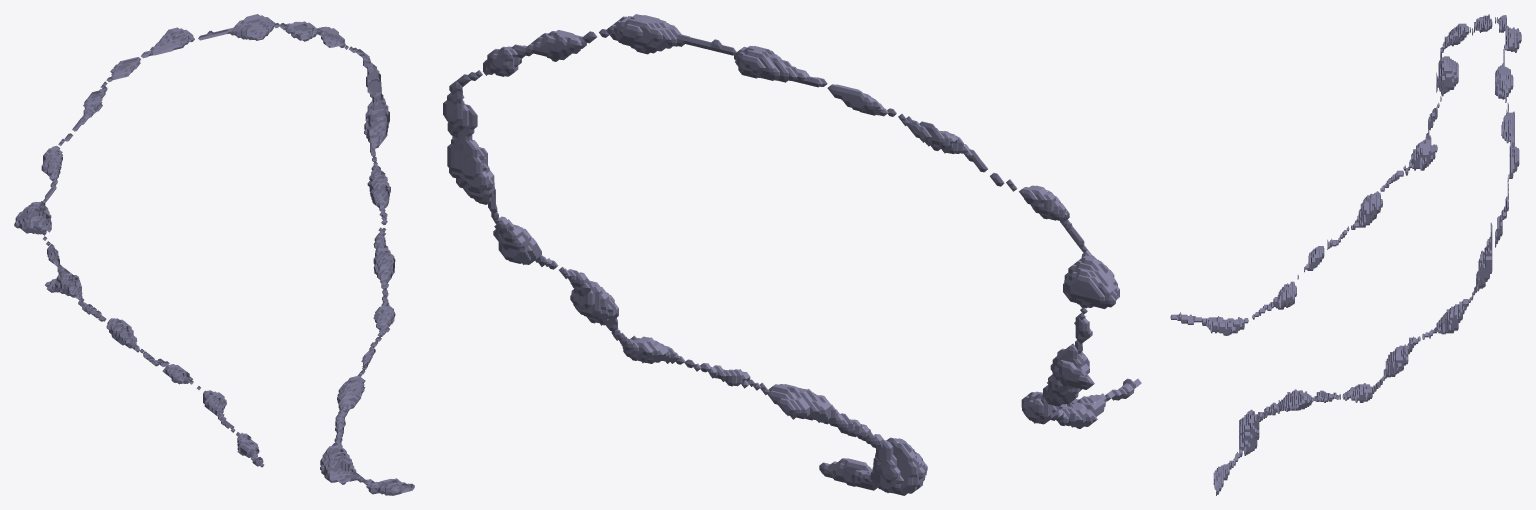
File: SVV_AVBR.gltf
The picture shows the model from 3 angles, left to right: view 1: azimuth 30°, elevation 25°; view 2: azimuth 150°, elevation 25°; view 3: azimuth 270°, elevation 25°; orthographic projection. The views are drawn at different scales.
Parts seen in each view (by area): view 1: AVBR; view 2: AVBR; view 3: AVBR.
Part boxes in pixels (bbox=[...]): AVBR: bbox=[14, 14, 414, 495]; AVBR: bbox=[443, 14, 1141, 495]; AVBR: bbox=[1170, 14, 1521, 495].
Size of the model in its own units: 88621 by 83512 by 64290.
